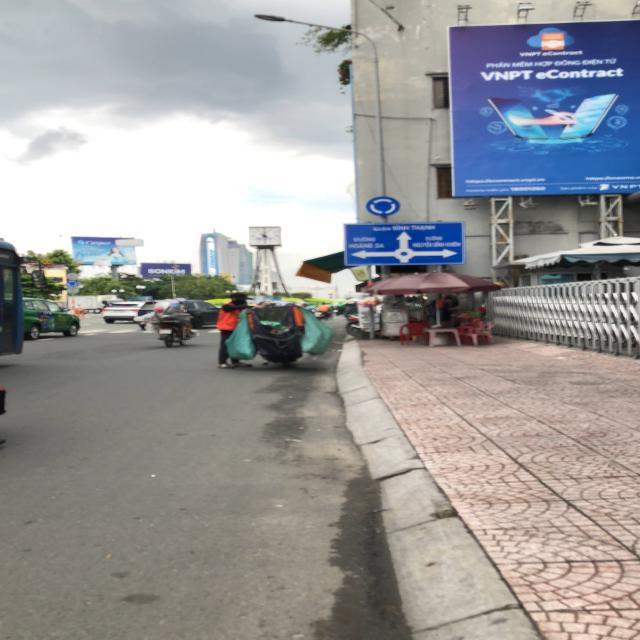Bien bao noi giao nhau chay theo vong xuyen: (364, 195, 407, 217)
